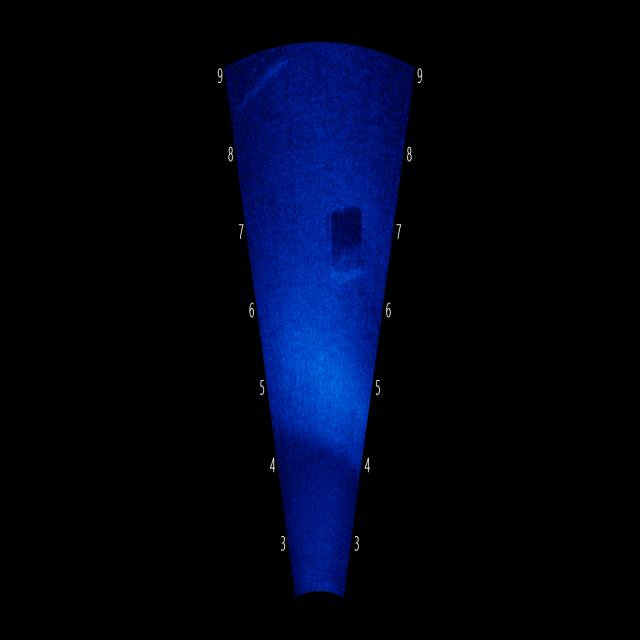square: (328, 206, 370, 286)
